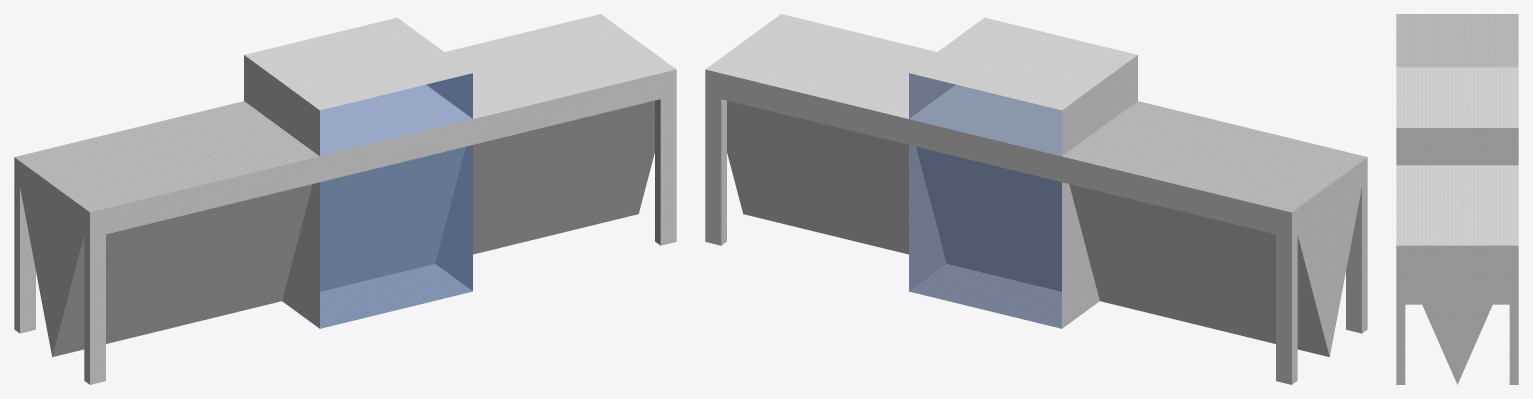
Rendered from entertainment-building.fbx.
3 renders of one model, left to right at view 1: azimuth 30°, elevation 25°; view 2: azimuth 150°, elevation 25°; view 3: azimuth 270°, elevation 25°, orthographic. The views are drawn at different scales.
Visible parts, largest first — view 1: Component1; view 2: Component1; view 3: Component1.
Boxes of the visible parts, box(x1,y1,x2,y2) form: Component1: box(14, 14, 676, 384); Component1: box(705, 14, 1367, 384); Component1: box(1396, 14, 1518, 384).
Bounding box in the file's own units: 135 × 48.07 × 30.24.
